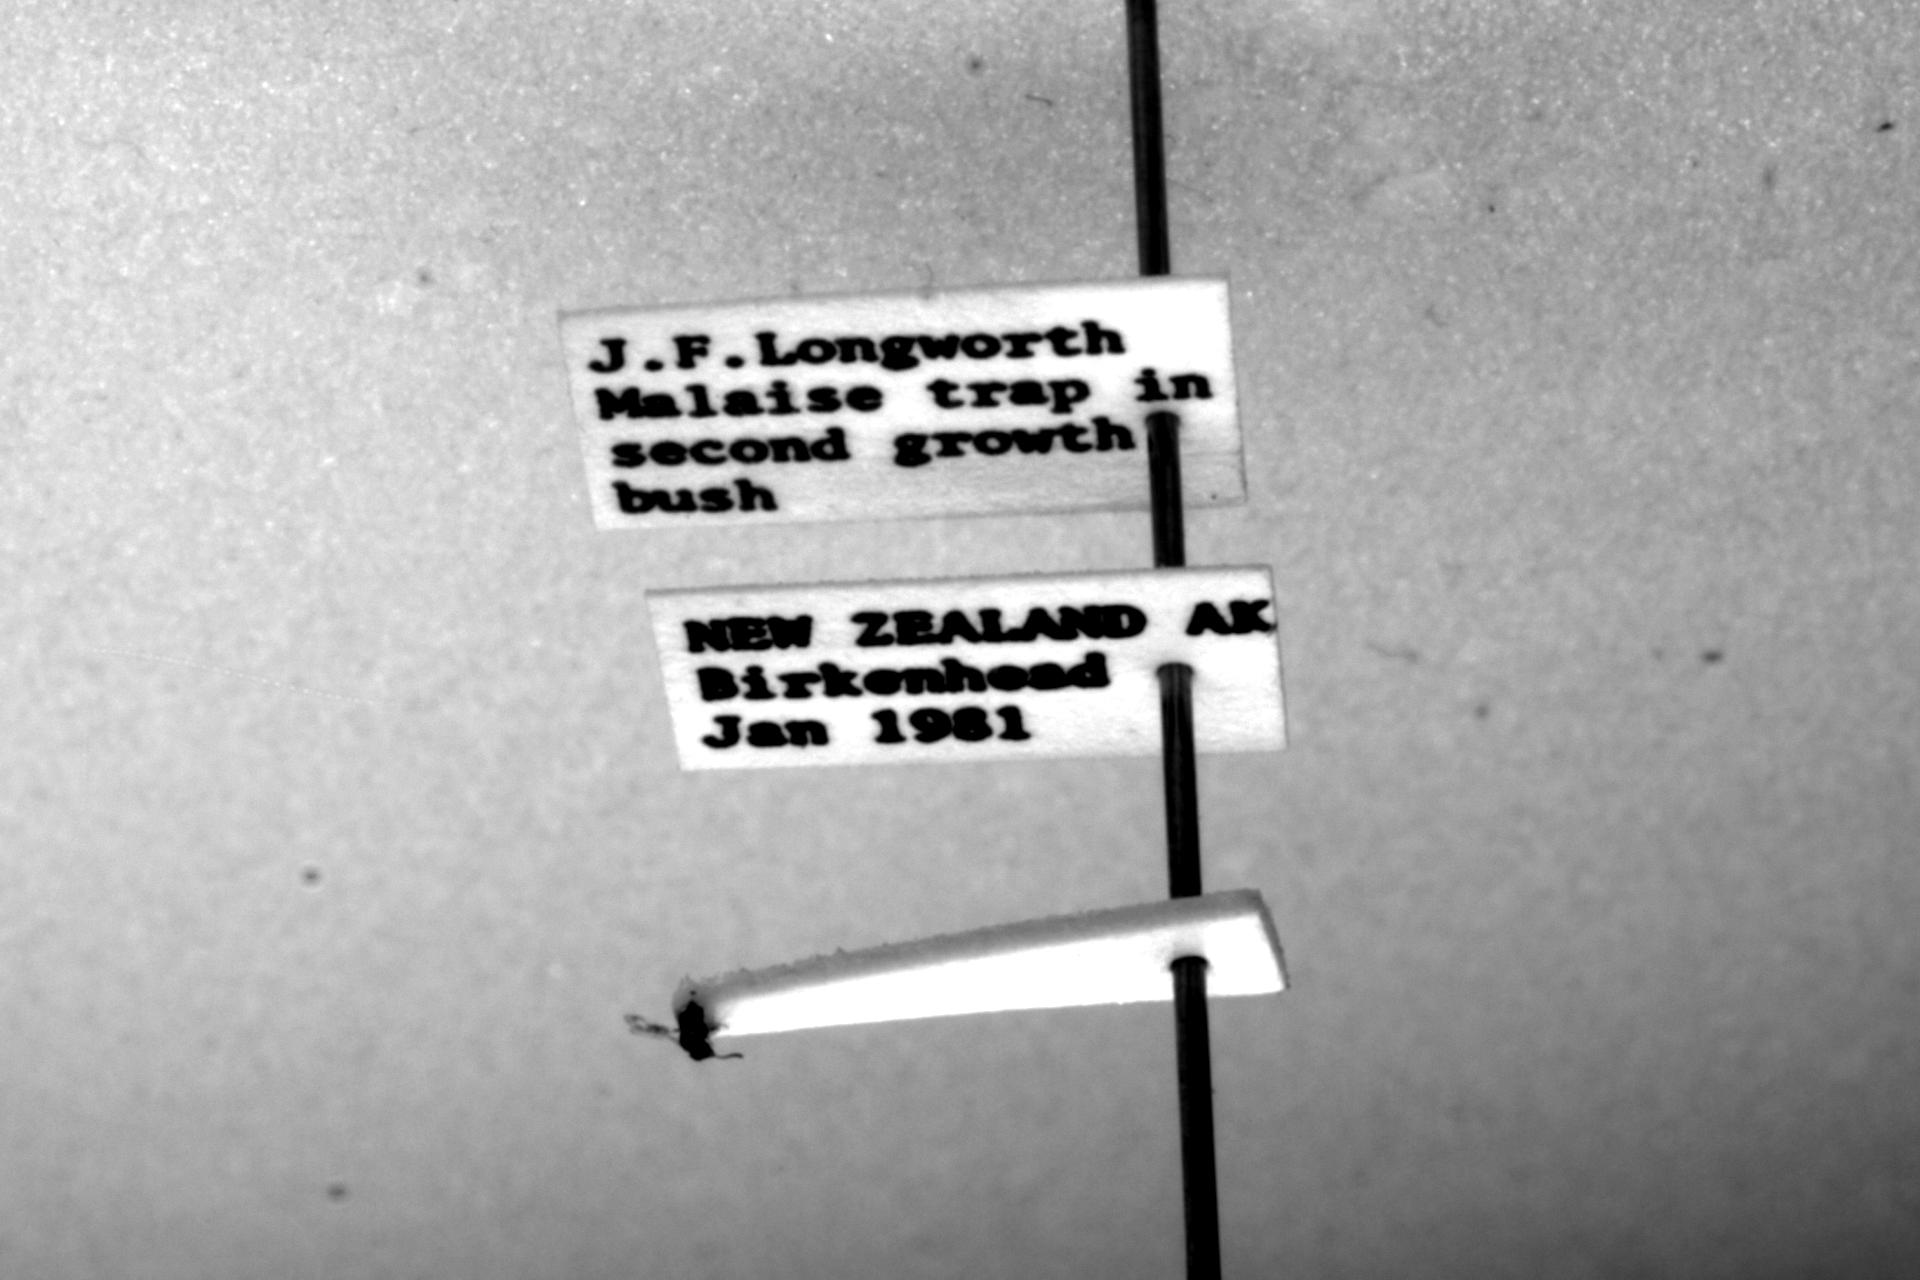typed_label: (559, 277, 1246, 529), (649, 566, 1286, 769)
